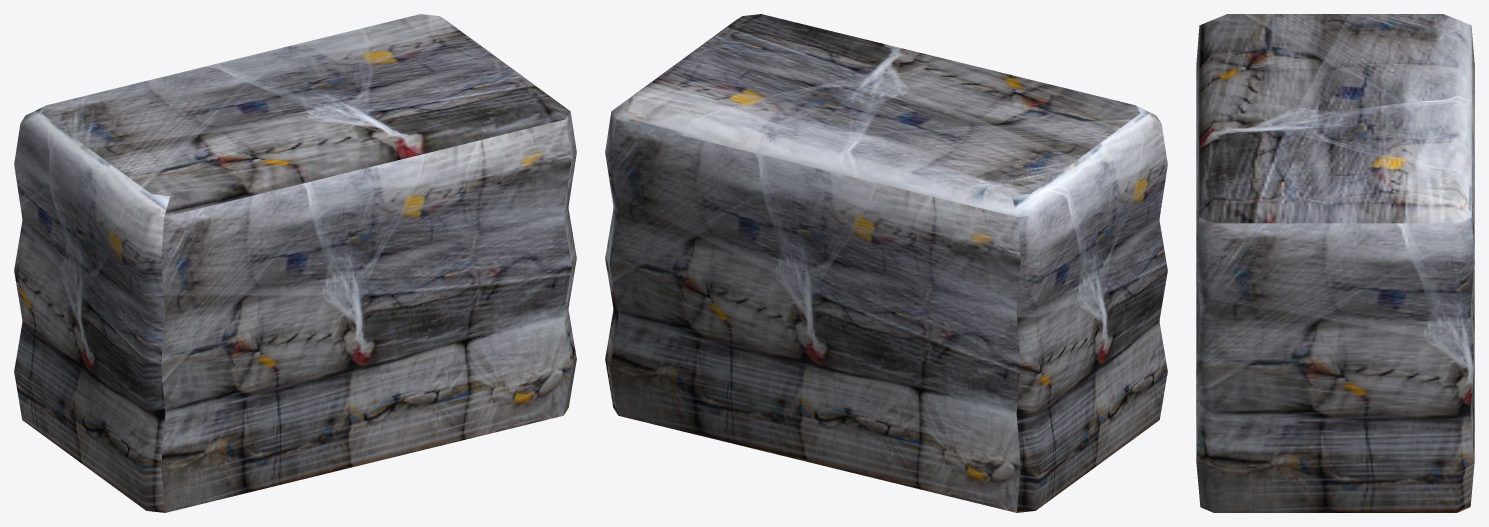
File: cocaine_ton_2.FBX
The picture shows the model from 3 angles, left to right: view 1: azimuth 30°, elevation 25°; view 2: azimuth 150°, elevation 25°; view 3: azimuth 270°, elevation 25°; orthographic projection. The views are drawn at different scales.
Parts seen in each view (by area): view 1: cocaine_ton_2; view 2: cocaine_ton_2; view 3: cocaine_ton_2.
Boxes of the visible parts, bbox=[...] form: cocaine_ton_2: bbox=[14, 14, 576, 512]; cocaine_ton_2: bbox=[605, 14, 1167, 512]; cocaine_ton_2: bbox=[1196, 14, 1474, 512].
Bounding box in the file's own units: 97.61 × 66.27 × 55.19.
